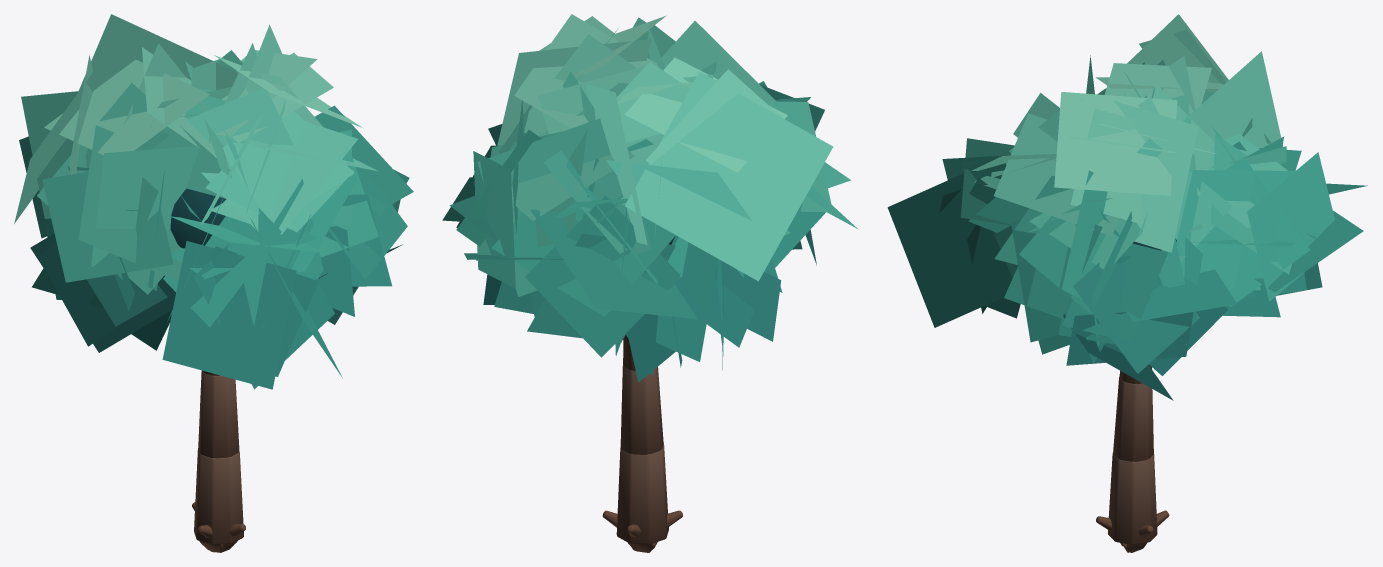
File: tree_teal.glb
The picture shows the model from 3 angles, left to right: view 1: azimuth 30°, elevation 25°; view 2: azimuth 150°, elevation 25°; view 3: azimuth 270°, elevation 25°; orthographic projection. The views are drawn at different scales.
Parts seen in each view (by area): view 1: Leaves, Tree; view 2: Leaves, Tree; view 3: Leaves, Tree.
Part boxes in pixels (x1,y1,x2,y2): Leaves: (14,14,413,389); Tree: (170,188,245,552); Leaves: (442,14,857,382); Tree: (602,237,682,552); Leaves: (887,14,1367,400); Tree: (1096,239,1176,552).
Bounding box in the file's own units: 3.5 × 4.66 × 4.18.
